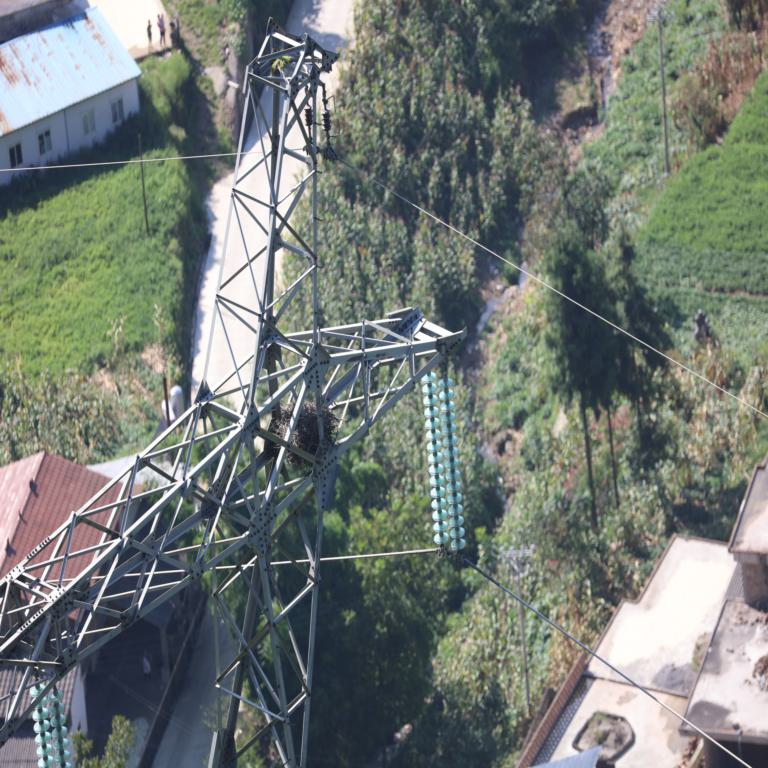nest: (277, 403, 337, 470)
